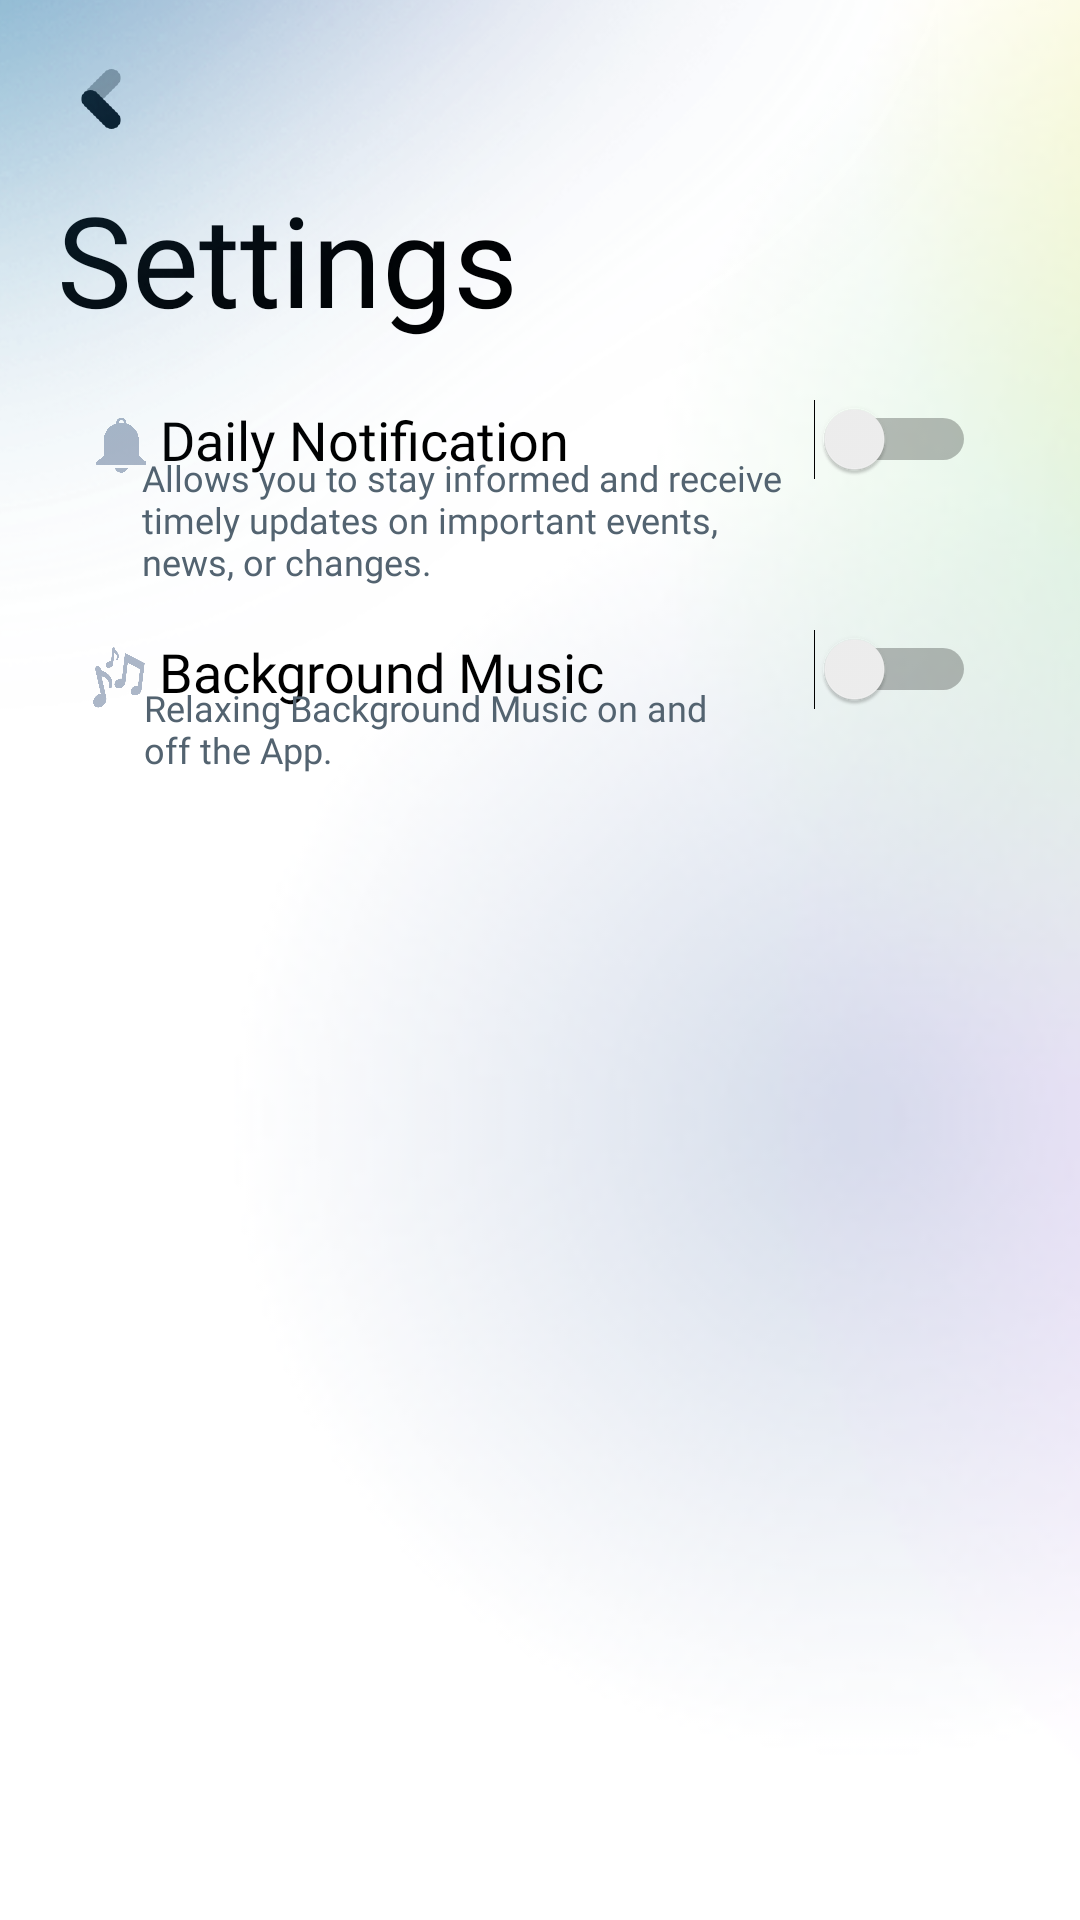

Named icons in this screenshot (1080x1920) and their bounding boxes, (x1, y1, x2, y2):
bakz: (81, 69, 121, 129)
